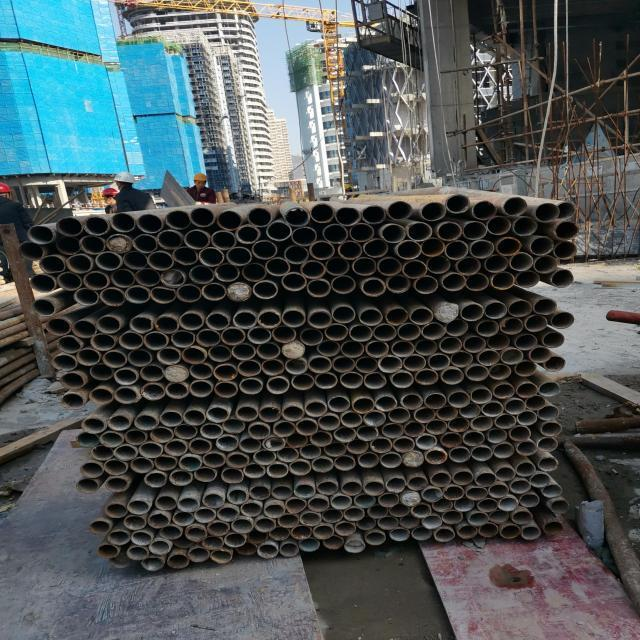pipe: (384, 200, 414, 223), (183, 266, 217, 286), (152, 346, 186, 366), (82, 215, 111, 238), (105, 233, 134, 256), (528, 236, 558, 258), (419, 200, 447, 223), (533, 204, 562, 226), (52, 216, 82, 237), (180, 344, 208, 366), (310, 202, 336, 225), (486, 215, 512, 238), (217, 210, 244, 232), (361, 204, 388, 226), (555, 200, 582, 222), (302, 400, 331, 420), (154, 523, 186, 541), (437, 220, 462, 243), (110, 212, 136, 234), (134, 211, 160, 233), (130, 234, 160, 253), (318, 224, 348, 243), (16, 241, 44, 261), (156, 230, 184, 250), (182, 230, 210, 250), (336, 240, 364, 260), (28, 273, 56, 293), (225, 282, 253, 302), (102, 350, 130, 370), (508, 506, 536, 526), (94, 252, 125, 270), (189, 206, 214, 228), (407, 220, 432, 242), (513, 217, 538, 239), (444, 240, 469, 262), (434, 302, 459, 324), (246, 206, 272, 227), (336, 206, 362, 227), (504, 197, 530, 218), (308, 241, 334, 262), (348, 223, 375, 243), (380, 224, 407, 244), (145, 252, 175, 270), (83, 270, 110, 290), (229, 342, 256, 362), (170, 536, 200, 554), (26, 224, 54, 243), (157, 269, 185, 288), (44, 318, 72, 337), (204, 311, 232, 330), (446, 390, 474, 409), (166, 208, 190, 230), (362, 276, 386, 298), (446, 196, 471, 217), (300, 262, 329, 280), (284, 208, 310, 228), (554, 222, 580, 242), (324, 256, 350, 276), (178, 312, 204, 332), (101, 288, 127, 308), (252, 280, 278, 300), (280, 272, 306, 292), (386, 274, 412, 294), (256, 310, 282, 330), (128, 315, 155, 334), (136, 441, 166, 458), (474, 200, 497, 222), (210, 231, 238, 249), (172, 249, 200, 267), (283, 246, 311, 264), (395, 242, 423, 260), (494, 238, 522, 256), (240, 264, 268, 282), (353, 258, 381, 276), (106, 414, 134, 432), (79, 236, 104, 256), (206, 344, 231, 364), (264, 258, 290, 277), (331, 275, 357, 294), (154, 315, 180, 334), (282, 309, 308, 328), (306, 355, 332, 374), (109, 270, 136, 288), (150, 286, 177, 304), (75, 348, 102, 366), (125, 349, 152, 367), (81, 416, 108, 434), (188, 438, 215, 456), (424, 418, 451, 436), (463, 220, 487, 240), (472, 240, 496, 260), (534, 254, 558, 274), (414, 275, 438, 295), (110, 370, 140, 386), (214, 508, 244, 524), (148, 538, 172, 558), (164, 438, 192, 455), (484, 255, 509, 274), (441, 272, 466, 291), (499, 316, 524, 335), (290, 227, 316, 245), (66, 256, 92, 274), (364, 240, 390, 258), (56, 272, 82, 290), (134, 269, 160, 287), (30, 298, 56, 316), (74, 288, 100, 306), (232, 310, 258, 328), (138, 366, 164, 384), (163, 366, 189, 384), (236, 359, 262, 377), (476, 350, 502, 368), (114, 386, 140, 404), (76, 432, 102, 450), (468, 416, 494, 434), (236, 500, 262, 518), (420, 486, 446, 504), (183, 524, 209, 542), (86, 366, 115, 382), (171, 424, 200, 440), (503, 396, 526, 416), (340, 478, 363, 498), (193, 329, 220, 346), (233, 405, 260, 422), (201, 452, 228, 469), (537, 421, 564, 438), (104, 501, 128, 520), (293, 483, 317, 502), (267, 223, 292, 241), (123, 252, 148, 270), (377, 258, 402, 276), (384, 308, 409, 326), (56, 336, 81, 354), (256, 342, 281, 360), (238, 377, 263, 395), (188, 380, 213, 398), (352, 396, 377, 414), (368, 436, 393, 454), (204, 406, 232, 422), (269, 422, 297, 438), (360, 410, 388, 426), (274, 446, 302, 462), (122, 546, 150, 562), (54, 238, 80, 255), (516, 272, 542, 289), (372, 324, 398, 341), (50, 354, 76, 371), (285, 432, 311, 449), (452, 470, 474, 490), (466, 483, 488, 503), (160, 409, 183, 428), (236, 227, 263, 243), (200, 249, 224, 267), (422, 240, 446, 258), (404, 262, 428, 280), (201, 284, 225, 302), (306, 278, 330, 296), (550, 269, 574, 287), (332, 305, 356, 323), (359, 308, 383, 326), (460, 303, 484, 321), (508, 300, 532, 318), (532, 298, 556, 316), (422, 322, 446, 340), (340, 340, 364, 358), (365, 340, 389, 358), (390, 340, 414, 358), (414, 338, 438, 356), (214, 364, 238, 382), (378, 356, 402, 374), (266, 376, 290, 394), (165, 382, 189, 400), (141, 382, 165, 400), (514, 382, 538, 400), (78, 462, 105, 478), (76, 476, 100, 494), (288, 457, 312, 475), (332, 454, 356, 472), (228, 518, 255, 534), (254, 516, 278, 534), (268, 526, 295, 542), (440, 508, 464, 526), (324, 324, 348, 342), (316, 340, 341, 357), (134, 415, 159, 432), (423, 393, 448, 410), (459, 429, 484, 446), (452, 258, 482, 272), (224, 534, 254, 548), (246, 530, 274, 545), (556, 242, 578, 261), (39, 257, 65, 273), (125, 288, 151, 304), (142, 332, 168, 348), (261, 360, 287, 376), (498, 348, 524, 364), (398, 394, 424, 410), (536, 382, 562, 398), (243, 424, 275, 437), (294, 418, 320, 434), (114, 444, 140, 460), (128, 458, 154, 474), (178, 455, 204, 471), (192, 508, 218, 524), (283, 498, 309, 514), (506, 480, 532, 496), (298, 511, 324, 527), (408, 502, 434, 518), (216, 265, 239, 283), (509, 252, 532, 270), (466, 272, 489, 290), (528, 346, 551, 364), (495, 412, 518, 430), (392, 436, 415, 454), (119, 333, 143, 350), (397, 323, 421, 340), (550, 312, 574, 329), (281, 341, 305, 358), (462, 336, 486, 353), (488, 364, 512, 381), (290, 374, 314, 391), (90, 388, 114, 405), (60, 393, 84, 410), (86, 446, 115, 460), (223, 452, 250, 467), (213, 382, 238, 398), (262, 436, 287, 452), (105, 477, 130, 493), (153, 455, 178, 471), (406, 476, 431, 492), (329, 494, 354, 510), (455, 524, 480, 540), (515, 360, 537, 378), (446, 416, 468, 434), (308, 496, 330, 514), (444, 484, 466, 502), (278, 406, 306, 420), (214, 435, 242, 449), (250, 452, 278, 466), (492, 273, 515, 290), (439, 337, 462, 354), (59, 372, 82, 389), (341, 372, 364, 389), (258, 405, 281, 422), (202, 492, 225, 509), (148, 428, 174, 443), (332, 427, 358, 442), (86, 520, 112, 535), (484, 302, 508, 318), (514, 334, 538, 350), (465, 366, 489, 382), (482, 402, 506, 418), (238, 436, 262, 452), (144, 472, 168, 488), (168, 470, 192, 486), (128, 498, 152, 514), (276, 512, 300, 528), (220, 420, 247, 434), (197, 424, 226, 437), (331, 358, 356, 373), (316, 414, 341, 429), (177, 498, 202, 513), (310, 311, 332, 328), (446, 319, 468, 336), (364, 372, 386, 389), (516, 409, 538, 426), (194, 466, 216, 483), (402, 451, 424, 468), (272, 484, 294, 501), (252, 242, 275, 258), (349, 326, 372, 342), (285, 358, 308, 374), (441, 368, 464, 384), (415, 369, 438, 385), (315, 373, 338, 389), (472, 388, 495, 404), (105, 460, 128, 476), (380, 452, 403, 468), (425, 450, 448, 466), (508, 426, 531, 442), (470, 446, 493, 462), (187, 546, 210, 562), (96, 318, 122, 332), (354, 426, 380, 440), (123, 517, 149, 531), (169, 512, 195, 526), (342, 508, 368, 522), (366, 505, 392, 519), (272, 327, 296, 342), (188, 364, 212, 379), (402, 355, 426, 370), (101, 431, 125, 446), (382, 424, 406, 439), (403, 422, 427, 437), (220, 469, 244, 484), (322, 440, 346, 455), (346, 439, 370, 454), (448, 447, 472, 462), (226, 488, 250, 503), (386, 476, 406, 494), (312, 525, 336, 540), (388, 503, 412, 518), (73, 319, 94, 336), (391, 371, 412, 388), (310, 430, 331, 447), (257, 542, 278, 559), (427, 258, 449, 274), (178, 286, 200, 302), (410, 308, 432, 324), (476, 320, 498, 336), (542, 332, 564, 348), (356, 358, 378, 374), (428, 354, 450, 370), (544, 356, 566, 372), (328, 395, 350, 411), (376, 396, 398, 412), (538, 404, 560, 420), (249, 486, 271, 502), (364, 530, 386, 546), (398, 514, 420, 530), (490, 508, 512, 524), (316, 480, 338, 496), (170, 332, 197, 345), (107, 555, 132, 569), (139, 557, 164, 571), (220, 328, 243, 343), (487, 334, 510, 349), (436, 405, 459, 420), (357, 453, 380, 468), (488, 429, 511, 444), (354, 494, 377, 509), (499, 524, 522, 539), (378, 492, 398, 509), (490, 484, 510, 501), (386, 410, 412, 423), (227, 250, 251, 264), (300, 328, 321, 344), (310, 458, 334, 472), (538, 437, 559, 453), (152, 496, 176, 510), (431, 472, 452, 488), (495, 466, 516, 482), (401, 492, 422, 508), (166, 554, 190, 568), (279, 542, 300, 558), (377, 518, 401, 532), (432, 498, 456, 512), (452, 498, 476, 512), (468, 512, 492, 526), (184, 411, 206, 426), (266, 463, 288, 478), (493, 443, 515, 458), (148, 514, 170, 529), (202, 535, 224, 550), (211, 549, 233, 564), (334, 521, 356, 536), (544, 521, 566, 536), (459, 404, 482, 418), (320, 509, 343, 523), (388, 528, 411, 542), (452, 352, 472, 368), (494, 384, 514, 400), (414, 433, 434, 449), (364, 480, 384, 496), (538, 456, 558, 472), (550, 498, 570, 514), (124, 431, 148, 444), (523, 397, 547, 410), (106, 531, 130, 544), (340, 412, 362, 426), (242, 464, 264, 478), (263, 503, 285, 517), (290, 526, 312, 540), (298, 538, 320, 552), (356, 517, 378, 531), (434, 528, 456, 542), (540, 484, 562, 498), (520, 526, 542, 540), (526, 316, 546, 331), (411, 408, 436, 420), (516, 441, 536, 456), (530, 473, 550, 488), (477, 498, 500, 511), (249, 328, 270, 342), (475, 473, 496, 487), (98, 544, 119, 558), (90, 336, 114, 348), (234, 543, 258, 555), (411, 527, 433, 540), (422, 516, 444, 529), (498, 497, 520, 510), (478, 524, 500, 537), (516, 462, 536, 476), (324, 536, 344, 550), (344, 539, 364, 553), (298, 445, 321, 457), (517, 494, 540, 506), (442, 434, 462, 446)
